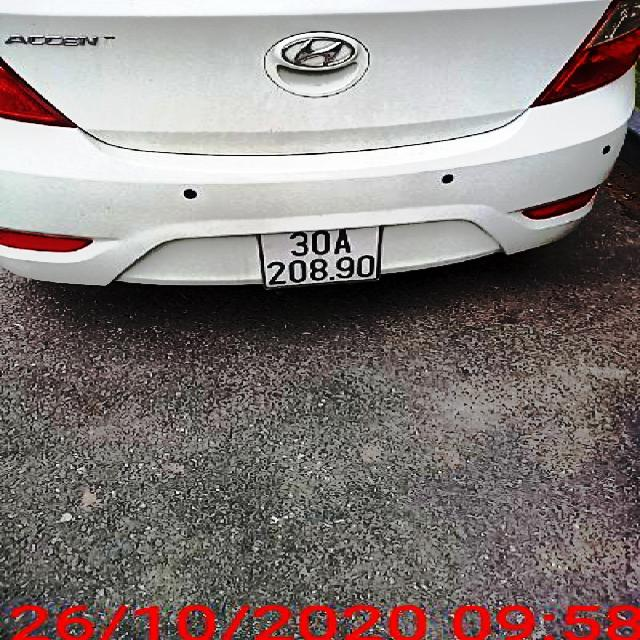license_plate: (262, 227, 382, 288)
